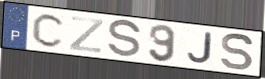9: (148, 23, 178, 64)
C: (31, 12, 68, 49)
J: (186, 31, 214, 65)
S: (106, 19, 144, 60), (220, 32, 256, 73)
Z: (68, 15, 106, 55)
